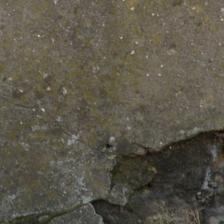Crack: (89, 0, 224, 178), (82, 103, 142, 128)
